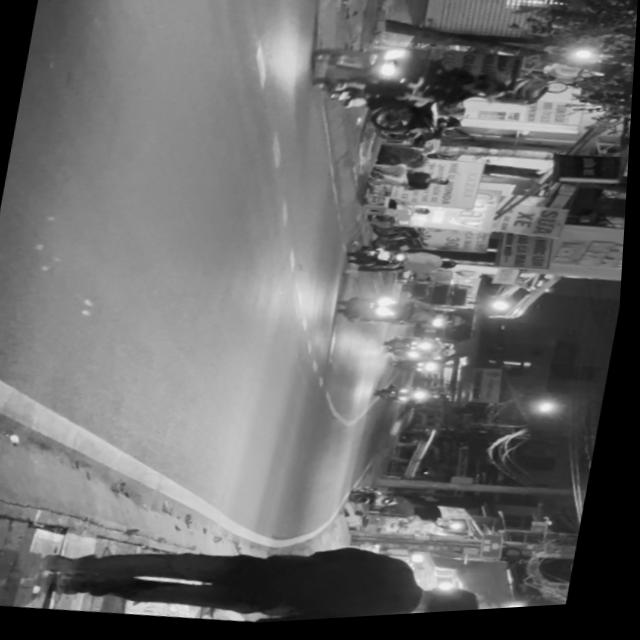helmet: (465, 80, 513, 109)
licenseplate: (288, 30, 519, 137)
